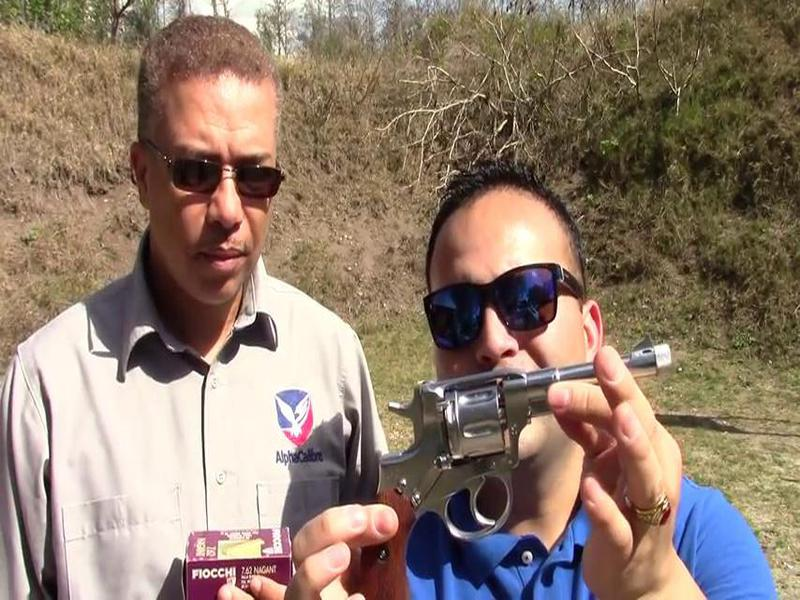Revolver: (306, 311, 661, 600)
